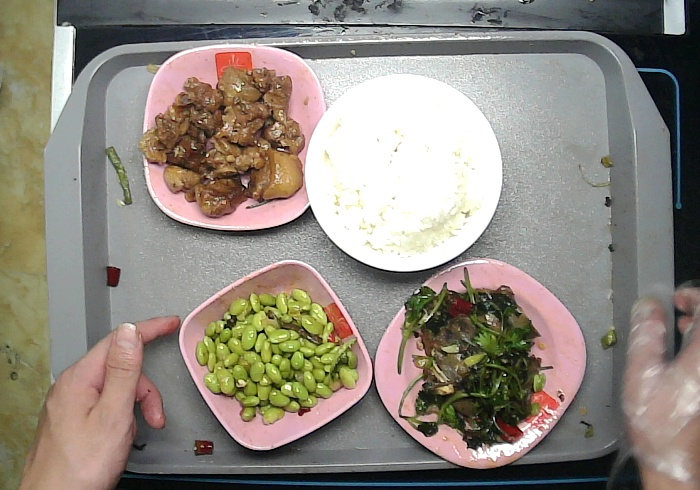SHKJ-Fan_Wan: (302, 72, 506, 271)
SHKJ-Fen_Se_Cai_Die: (140, 43, 329, 233)
SHKJ-Fen_Se_Si_Fang_Cai_Die: (371, 257, 590, 471)
SHKJ-Fen_Se_Xiao_Fang_Die: (178, 260, 374, 451)
